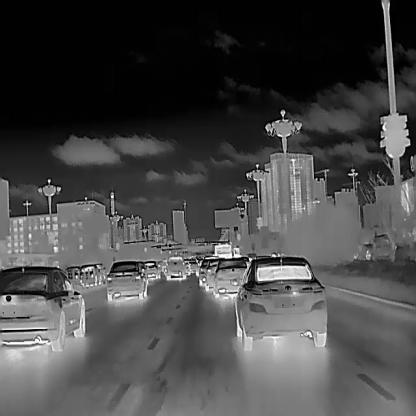car: (235, 255, 327, 351), (0, 263, 84, 352), (104, 260, 146, 302), (213, 257, 248, 298), (205, 257, 225, 290), (198, 256, 219, 287), (165, 255, 187, 281), (79, 263, 101, 287), (143, 260, 161, 280), (62, 265, 80, 284), (213, 243, 232, 257), (187, 258, 197, 274), (182, 259, 190, 276), (241, 255, 250, 266), (246, 252, 257, 260), (232, 246, 239, 258)
